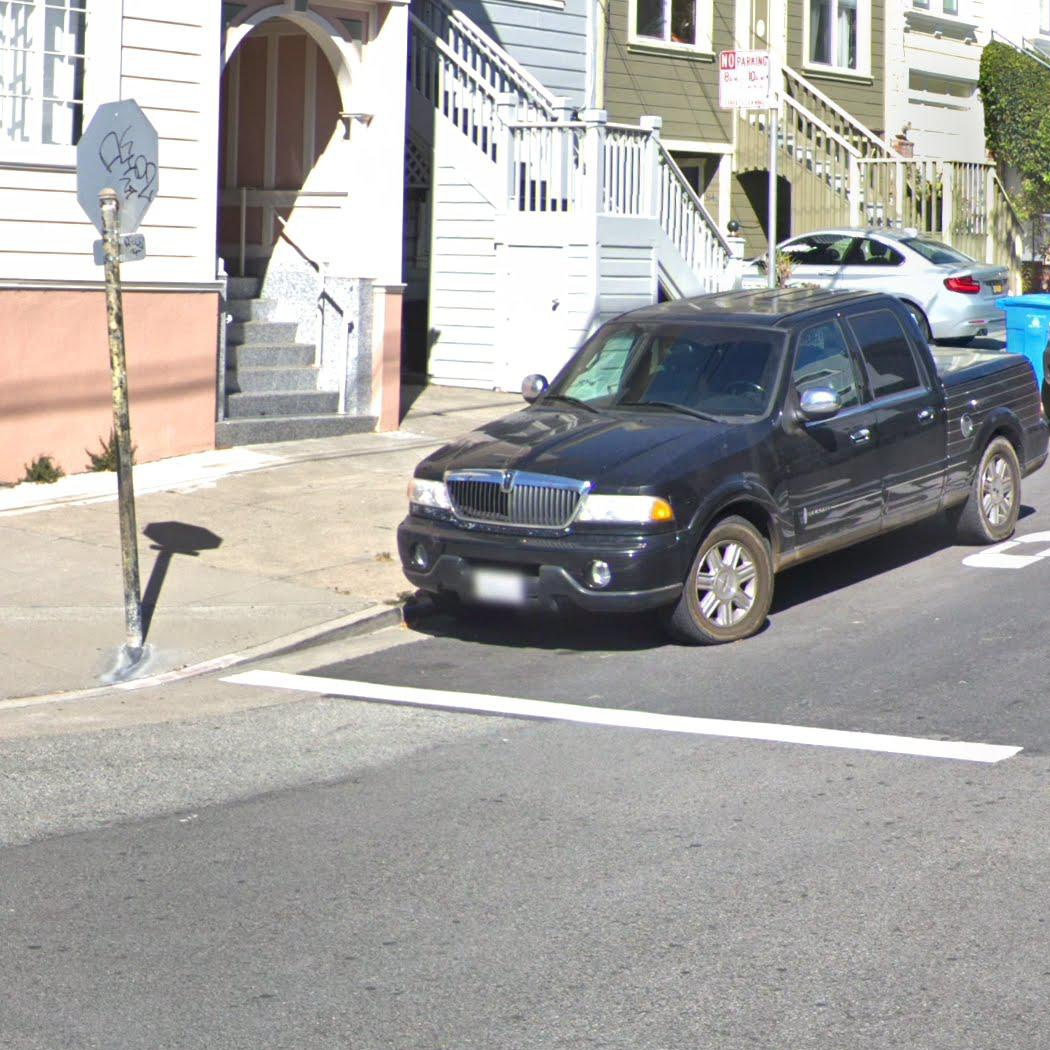No Parking: (717, 48, 771, 111)
